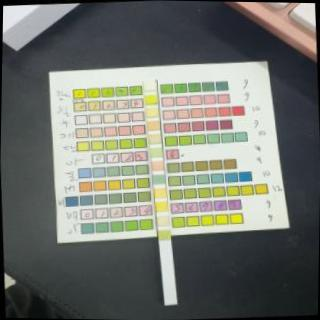mark: (155, 200, 167, 212), (158, 229, 170, 240), (158, 215, 170, 226), (154, 188, 166, 198), (152, 174, 164, 184), (152, 160, 164, 170), (150, 147, 162, 157), (148, 120, 160, 130), (146, 107, 158, 117), (144, 81, 156, 91), (149, 134, 160, 144), (145, 95, 156, 104)
